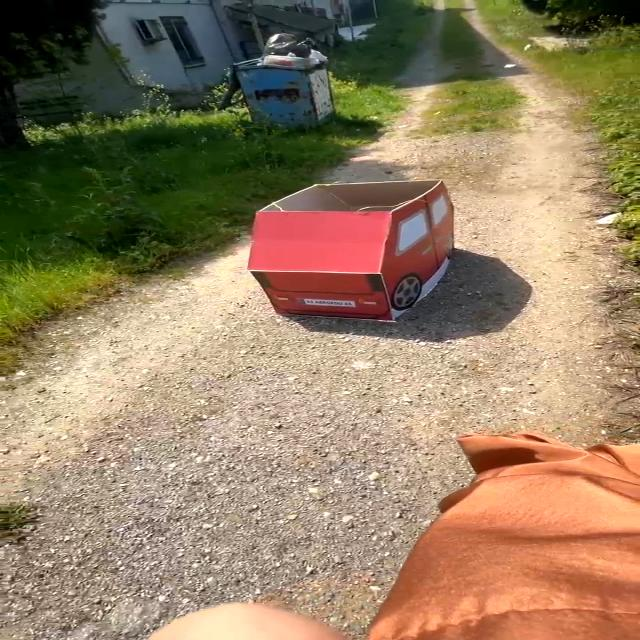red_car: (220, 169, 509, 356)
